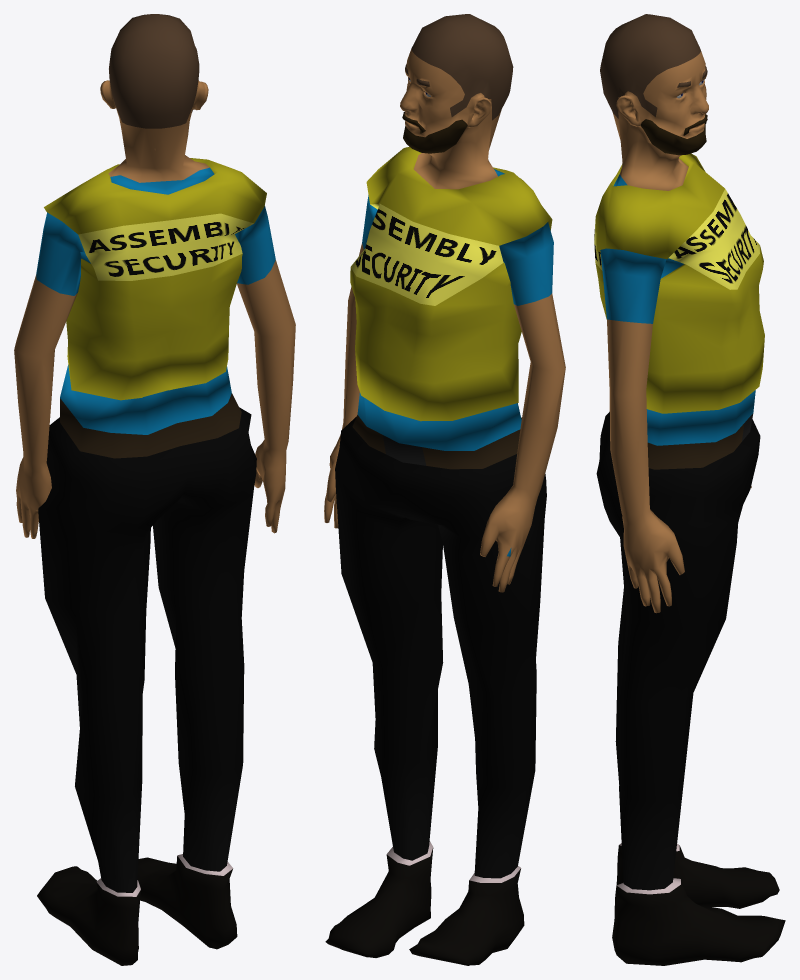
Rendered from securityguy_000008.obj.
The picture shows the model from 3 angles, left to right: view 1: azimuth 30°, elevation 25°; view 2: azimuth 150°, elevation 25°; view 3: azimuth 270°, elevation 25°; orthographic projection.
Visible parts, largest first — view 1: Cube; view 2: Cube; view 3: Cube.
Part boxes in pixels (<box>): Cube: <box>14,14,295,965</box>; Cube: <box>324,14,565,965</box>; Cube: <box>594,14,785,965</box>.
Bounding box in the file's own units: 27.66 × 97.22 × 18.39.
13 materials, 1 textured.
